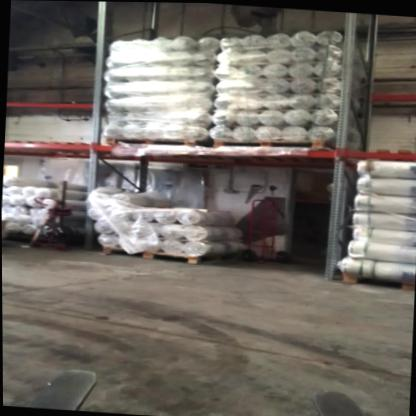vertical_damage: (320, 247, 346, 281)
